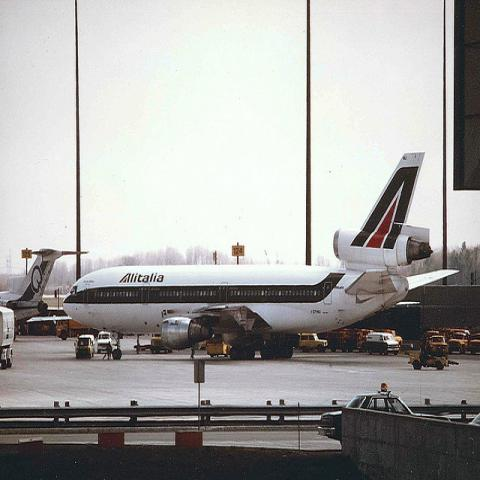car: (320, 394, 450, 445), (299, 333, 328, 353), (76, 334, 95, 360), (429, 335, 449, 354), (97, 332, 111, 353)
truck: (408, 341, 448, 370), (56, 319, 99, 341), (447, 328, 479, 356), (365, 333, 398, 356)
